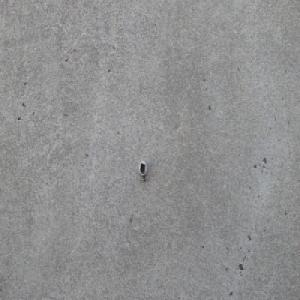MetalPart: (137, 159, 148, 183)
